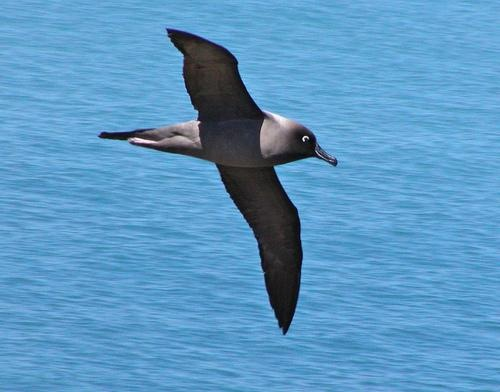bird: (96, 27, 340, 336)
